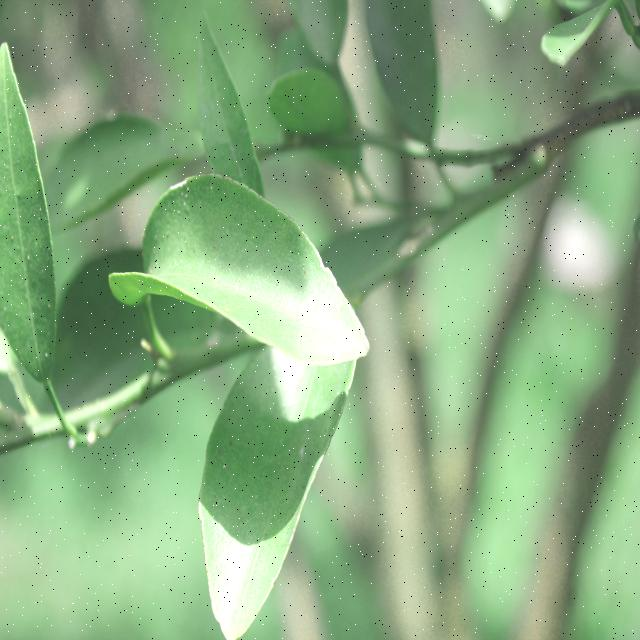blackspot: (165, 213, 368, 363), (206, 380, 331, 613), (365, 313, 455, 323)
